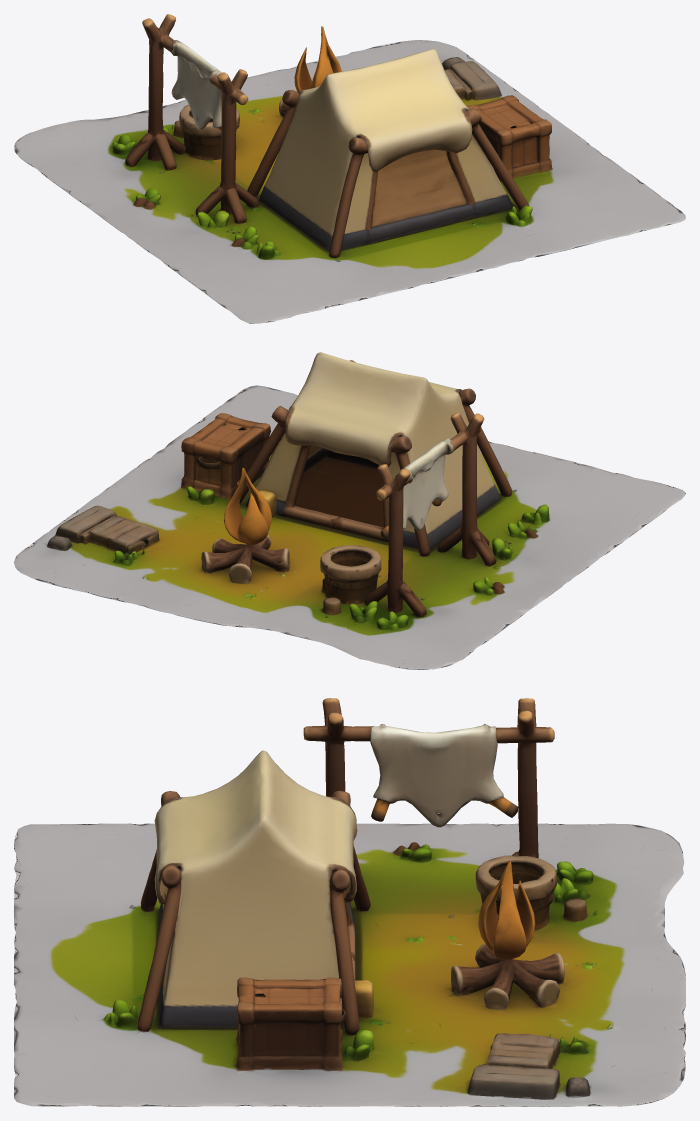
Rendered from camp_t1.glb.
3 views of the same model, one above another, from view 1: azimuth 30°, elevation 25°; view 2: azimuth 150°, elevation 25°; view 3: azimuth 270°, elevation 25° (orthographic). The views are drawn at different scales.
Parts seen in each view (by area): view 1: geometry_0; view 2: geometry_0; view 3: geometry_0.
Part boxes in pixels (x1,y1,x2,y2): geometry_0: [14, 14, 685, 323]; geometry_0: [14, 352, 685, 669]; geometry_0: [14, 698, 685, 1106].
Size of the model in its own units: 0.9959 by 0.3111 by 1.
1 material, 1 textured.
